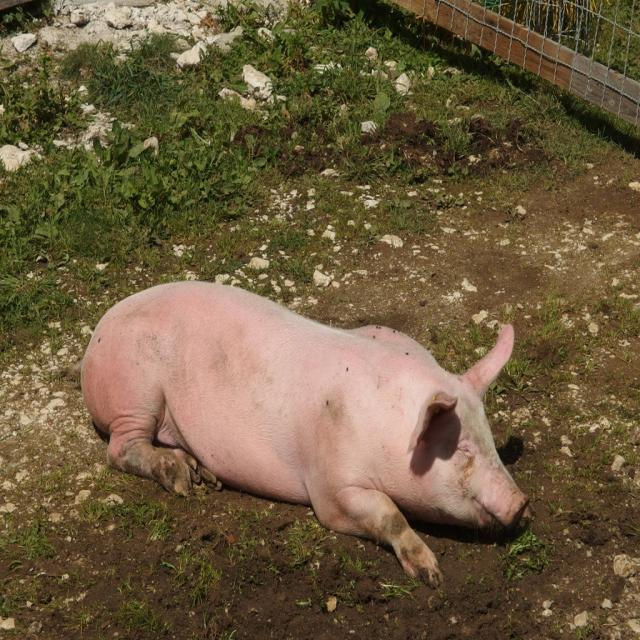Pig: (79, 282, 531, 588)
